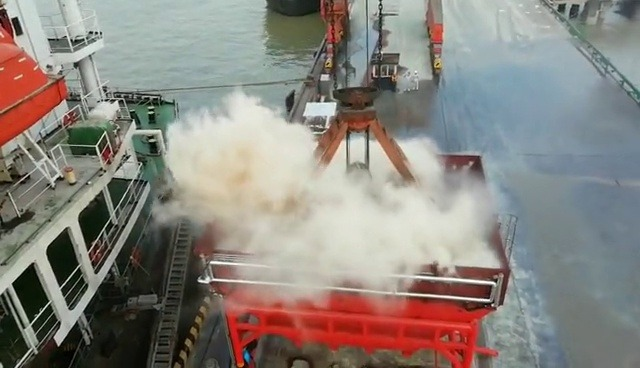dust: (154, 80, 504, 302)
grab: (310, 83, 413, 199)
